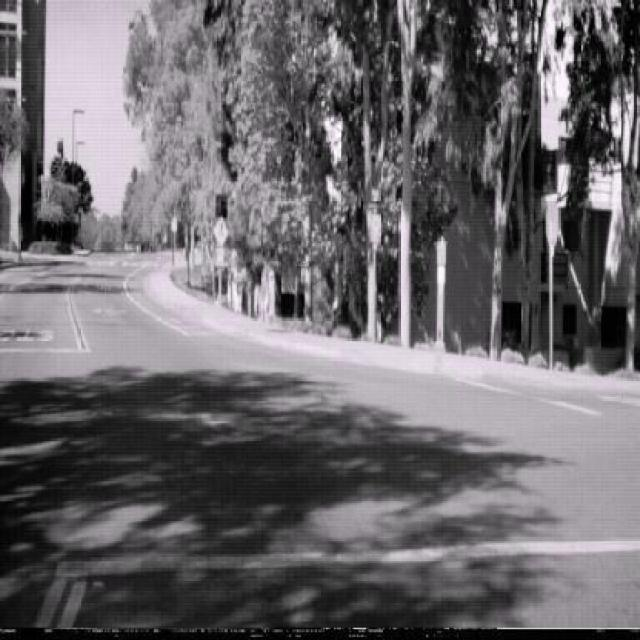pedestrianCrossing: (211, 214, 229, 248)
